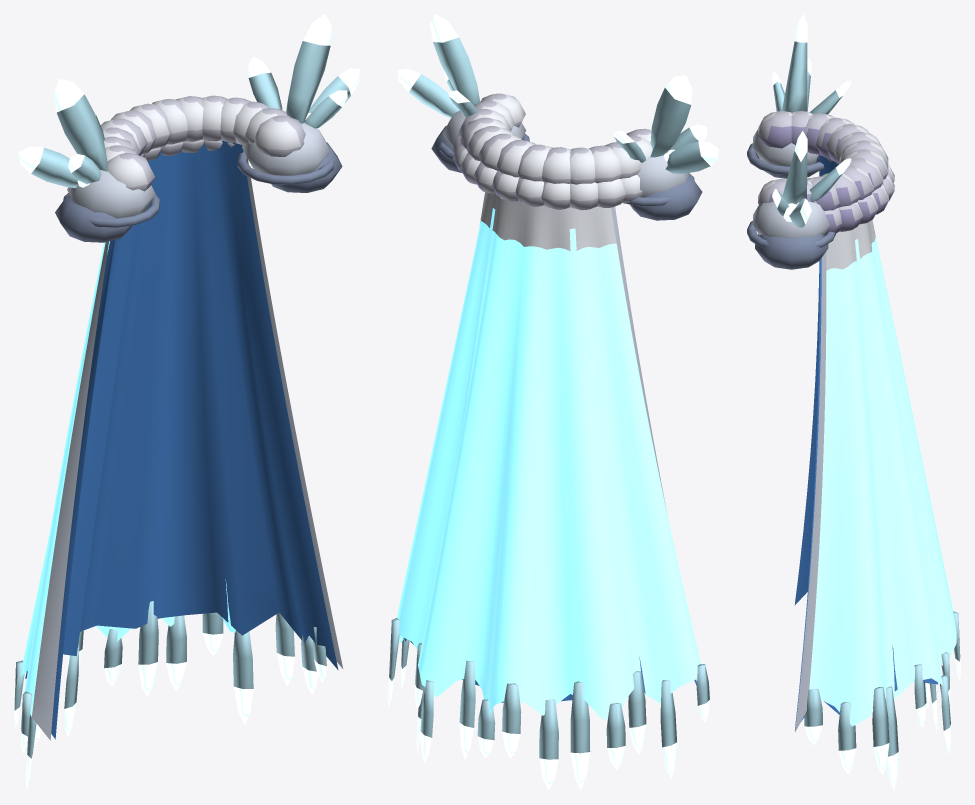
Rendered from c_frost.glb.
3 views of the same model, side by side, from view 1: azimuth 30°, elevation 25°; view 2: azimuth 150°, elevation 25°; view 3: azimuth 270°, elevation 25° (orthographic). The views are drawn at different scales.
Parts seen in each view (by area): view 1: ClothMesh, BackMesh; view 2: ClothMesh, BackMesh; view 3: ClothMesh, BackMesh.
Part boxes in pixels (x1,y1,x2,y2): ClothMesh: (14, 140, 342, 790); BackMesh: (18, 14, 359, 242); ClothMesh: (388, 192, 709, 790); BackMesh: (397, 14, 718, 220); ClothMesh: (794, 155, 960, 790); BackMesh: (747, 14, 894, 269).
Bounding box in the file's own units: 0.8403 × 1.74 × 0.5013.
